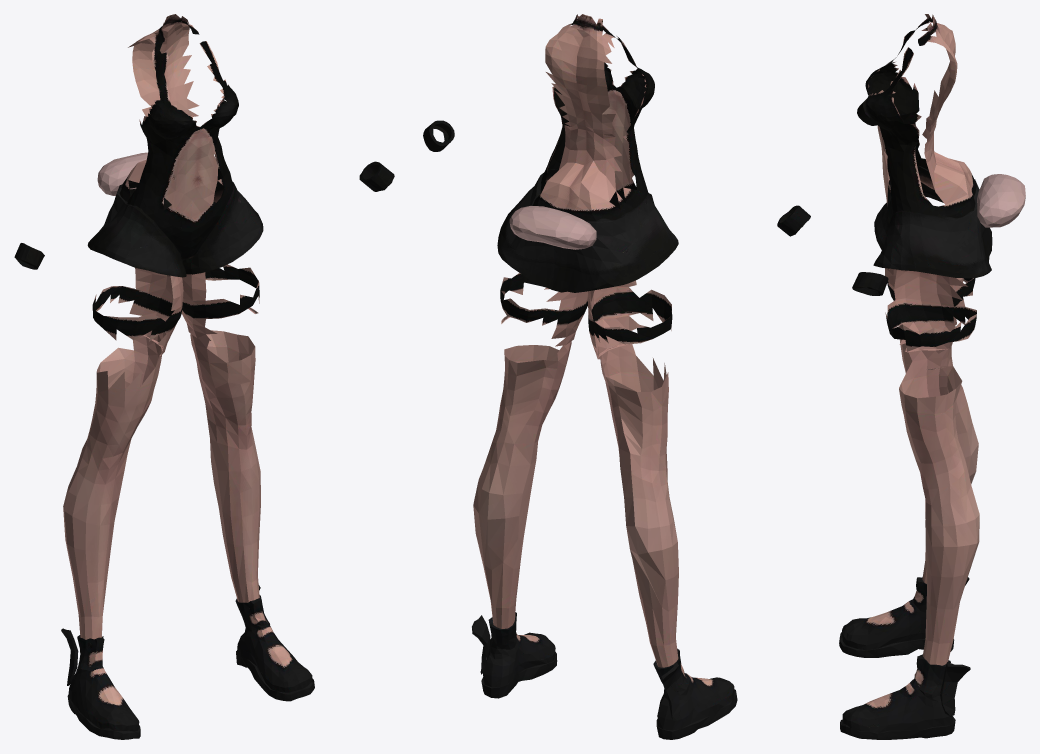
Rendered from ewm_t2bunnygirl_outfit.glb.
3 views of the same model, side by side, from view 1: azimuth 30°, elevation 25°; view 2: azimuth 150°, elevation 25°; view 3: azimuth 270°, elevation 25° (orthographic). The views are drawn at different scales.
Parts seen in each view (by area): view 1: ewm_t2bunnygirl_outfit; view 2: ewm_t2bunnygirl_outfit; view 3: ewm_t2bunnygirl_outfit.
Boxes of the visible parts, left/top/right/bottom form: ewm_t2bunnygirl_outfit: left=14, top=14, right=394, bottom=739; ewm_t2bunnygirl_outfit: left=423, top=14, right=810, bottom=739; ewm_t2bunnygirl_outfit: left=839, top=14, right=1025, bottom=739.
Size of the model in its own units: 0.9461 by 1.64 by 0.4107.
1 material, 1 textured.
